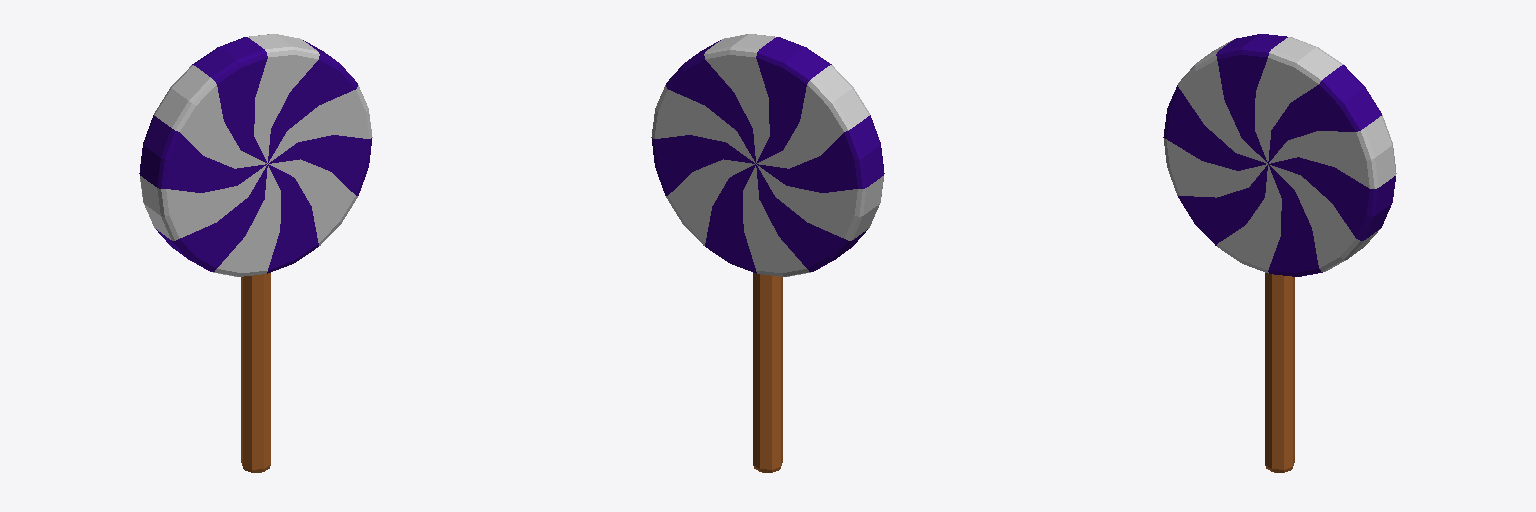
Rendered from lollipopA.obj.
3 views of the same model, side by side, from view 1: azimuth 30°, elevation 25°; view 2: azimuth 150°, elevation 25°; view 3: azimuth 330°, elevation 25° (orthographic).
Parts seen in each view (by area): view 1: lollipopA_Cylinder.001; view 2: lollipopA_Cylinder.001; view 3: lollipopA_Cylinder.001.
Boxes of the visible parts, box(x1,y1,x2,y2) form: lollipopA_Cylinder.001: box(139, 34, 372, 472); lollipopA_Cylinder.001: box(651, 34, 884, 472); lollipopA_Cylinder.001: box(1163, 34, 1396, 472).
Bounding box in the file's own units: 0.6861 × 1.3 × 0.1308.